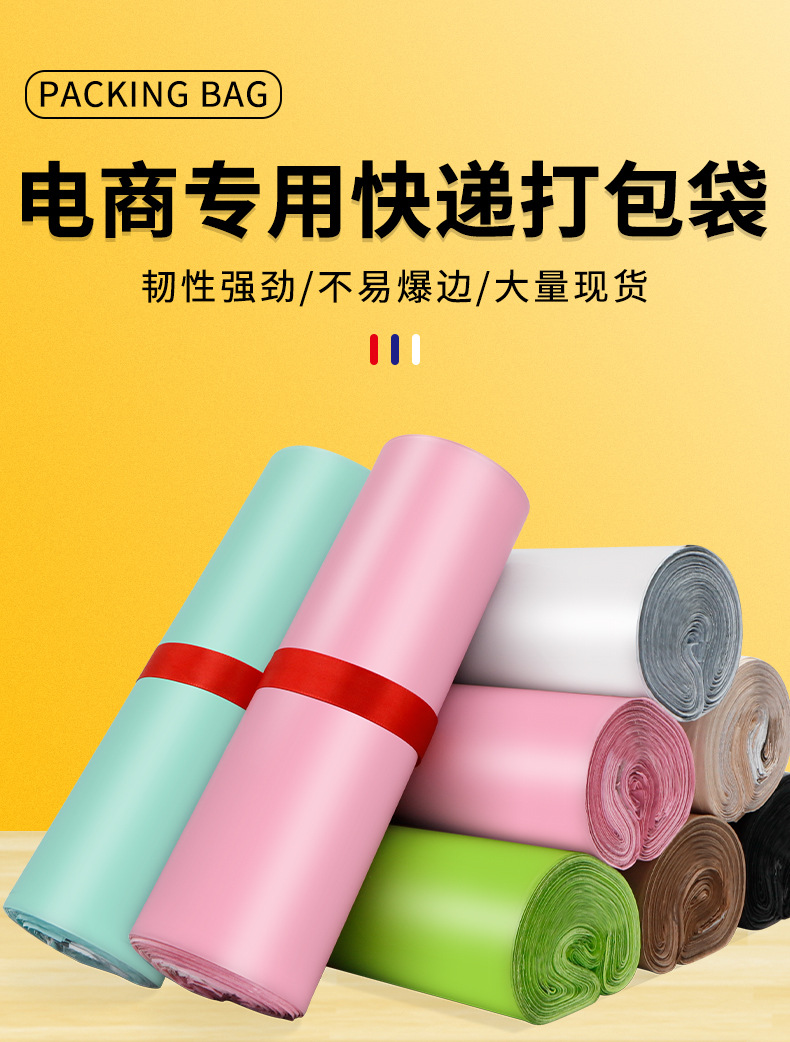塑料袋: (47, 351, 790, 1042)
